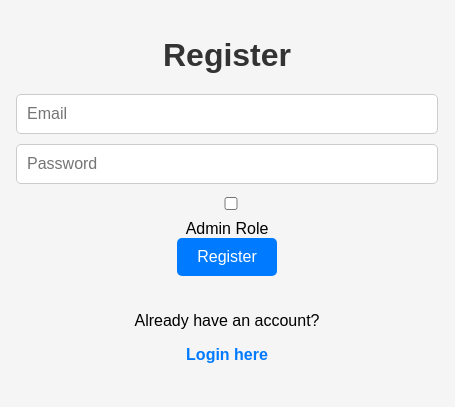
Test: Register Component › shows error message on failed registration
Type "test@example.com" into the field with placeholder "Email".
click(227, 114); type("test@example.com")  # box [16,94,438,134]
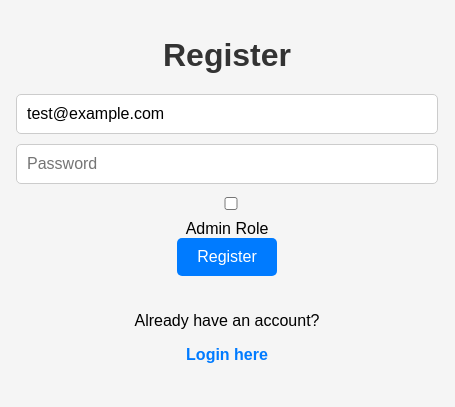
Type "password" into the password field with placeholder "Password".
click(227, 164); type("password")  # box [16,144,438,184]
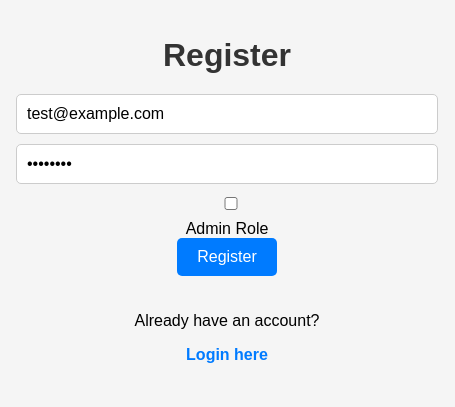
Click the button "Register".
click(227, 257)  # box [177,238,277,276]
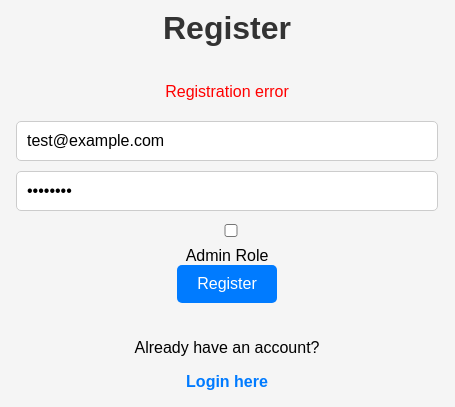
Check: the text "Registration error" is shown, box [165,83,289,101]
